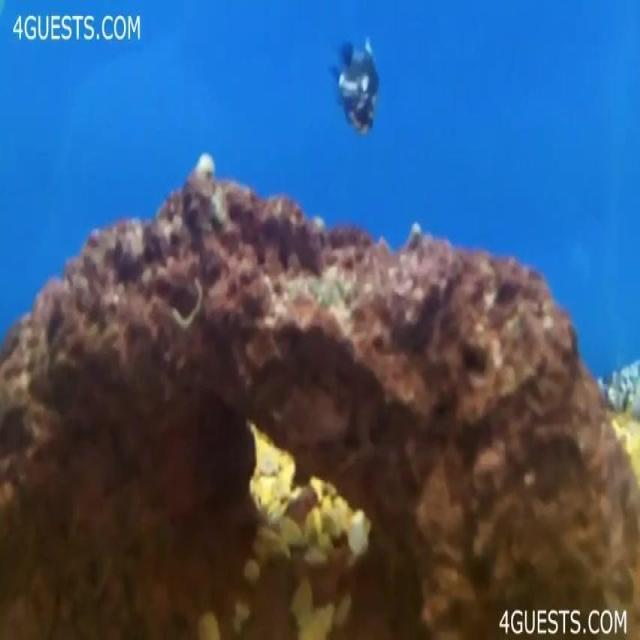PlatyFish: (330, 17, 387, 148)
